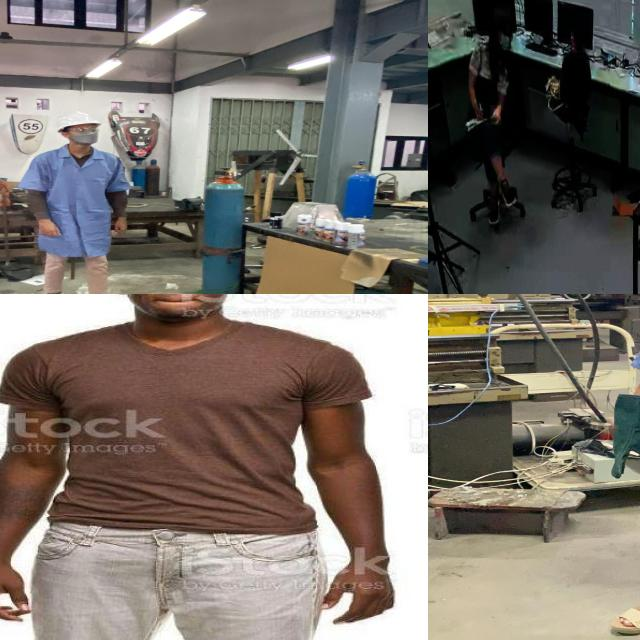No_Ear-Protection: (101, 294, 129, 301)
face_mask: (68, 124, 102, 145), (499, 16, 511, 61)
face_nomask: (135, 294, 225, 322)
glasses: (61, 125, 101, 135)
hand_glove: (588, 414, 640, 482)
hand_noglove: (313, 541, 401, 632), (0, 541, 39, 637), (32, 216, 68, 240), (111, 217, 134, 235), (491, 105, 502, 126), (474, 103, 485, 122)
head_helmet: (54, 110, 100, 128)
head_nohelmet: (494, 8, 512, 22)
person: (0, 294, 395, 640), (18, 109, 147, 294), (583, 294, 640, 637), (456, 11, 534, 246)
shoes: (497, 173, 519, 211), (484, 189, 503, 233), (36, 287, 70, 294)
